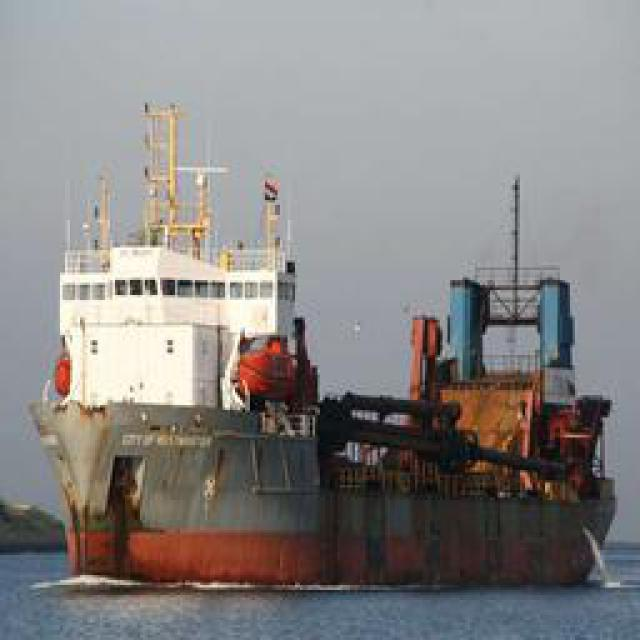Ship: (31, 111, 619, 596)
